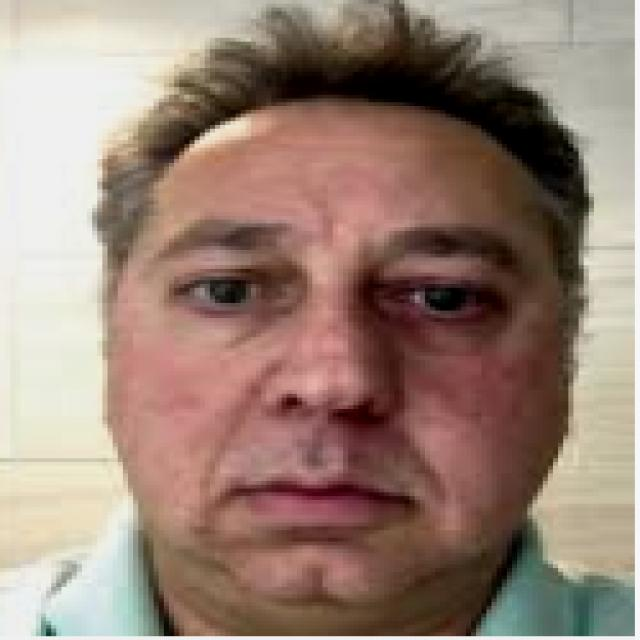normal_face: (102, 109, 580, 612)
